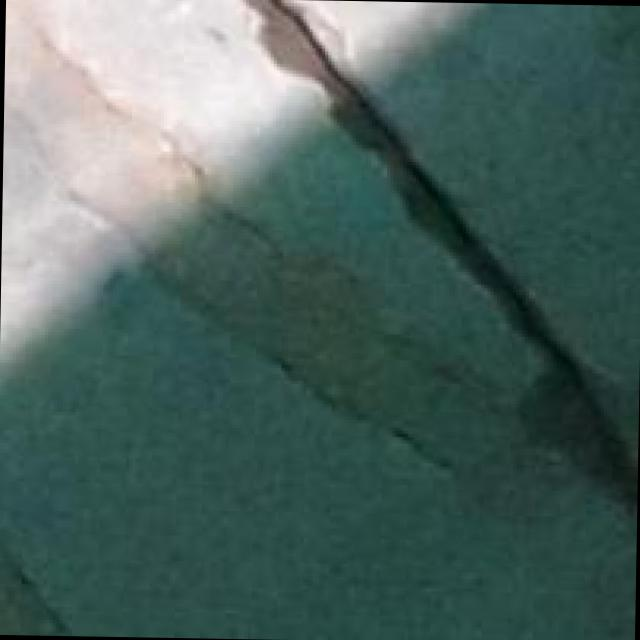crack: (222, 1, 640, 575)
